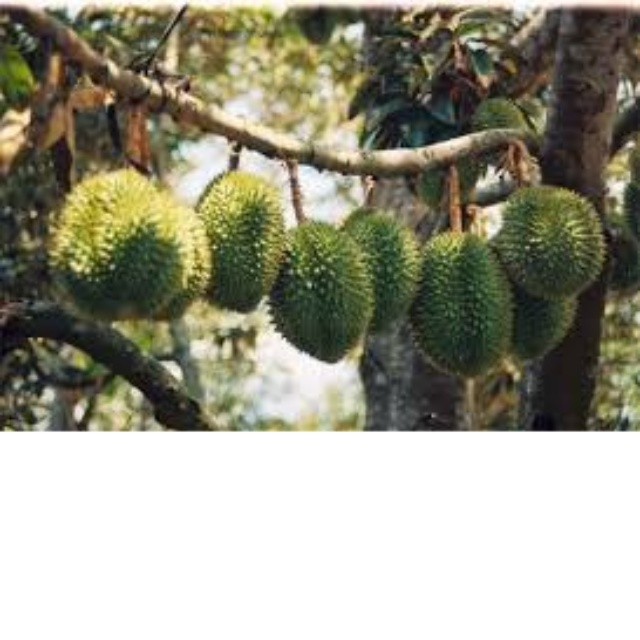sau_rieng: (46, 165, 191, 320), (269, 216, 370, 367), (406, 225, 509, 373), (194, 167, 285, 317), (496, 180, 606, 291), (341, 203, 417, 344)
